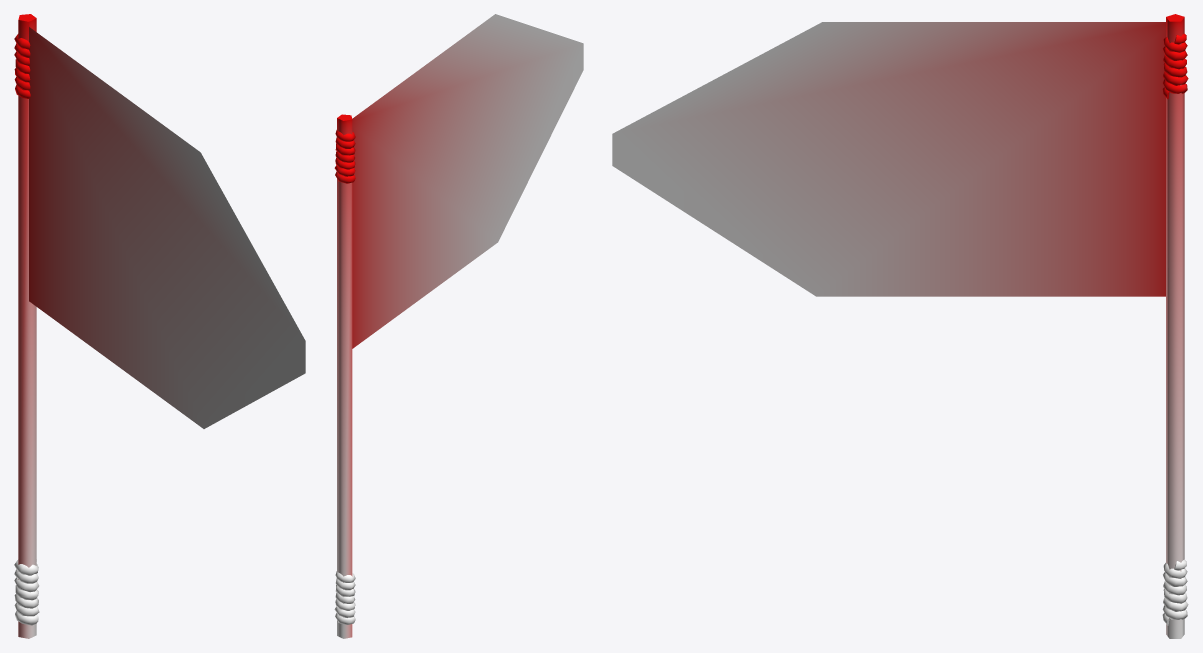
The model's file is SM_VikingFlag_02a.fbx.
3 renders of one model, left to right at view 1: azimuth 30°, elevation 25°; view 2: azimuth 150°, elevation 25°; view 3: azimuth 270°, elevation 25°, orthographic. The views are drawn at different scales.
Visible parts, largest first — view 1: SM_VikingFlag_02a_LOD0; view 2: SM_VikingFlag_02a_LOD0; view 3: SM_VikingFlag_02a_LOD0.
Part boxes in pixels (x1,y1,x2,y2): SM_VikingFlag_02a_LOD0: [14, 14, 305, 638]; SM_VikingFlag_02a_LOD0: [334, 14, 583, 638]; SM_VikingFlag_02a_LOD0: [612, 14, 1188, 638].
Size of the model in its own units: 2.37 by 55.95 by 66.15.
